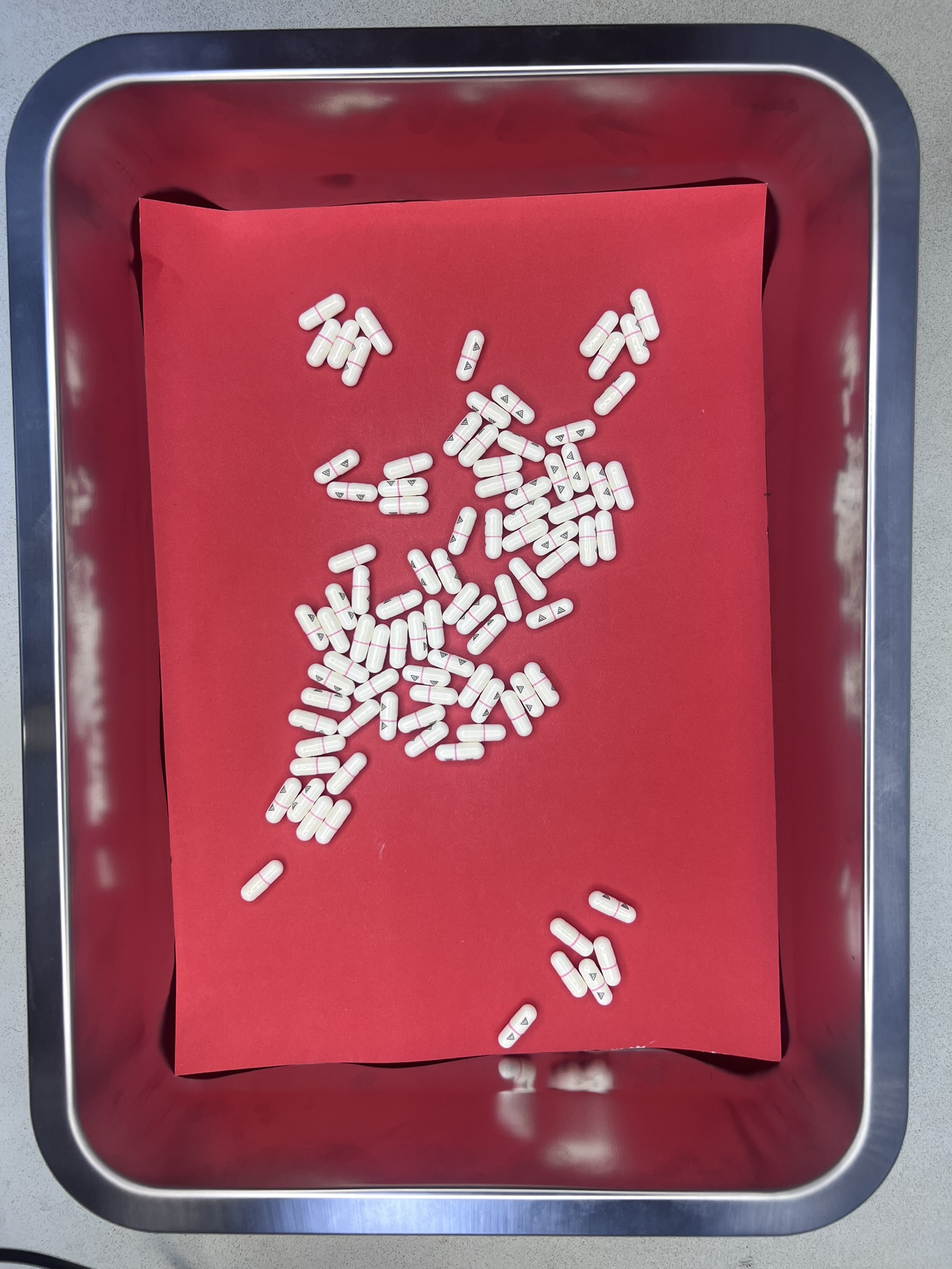Capsule: (594, 371, 637, 418), (306, 662, 358, 700), (580, 309, 621, 357), (456, 423, 500, 467), (442, 410, 482, 458), (531, 519, 581, 557), (589, 331, 627, 381), (498, 1002, 538, 1049), (356, 307, 394, 356), (296, 795, 334, 844), (323, 648, 373, 685), (240, 859, 283, 902), (325, 751, 367, 795), (441, 582, 481, 628), (491, 384, 535, 425), (286, 777, 325, 823), (465, 390, 512, 428), (298, 293, 345, 331), (511, 671, 548, 719), (523, 661, 560, 709), (294, 604, 330, 653), (550, 917, 593, 958), (535, 539, 580, 578), (508, 557, 546, 603), (265, 777, 302, 824), (326, 321, 360, 372), (504, 475, 552, 511), (503, 517, 551, 553), (552, 950, 588, 998), (455, 594, 497, 635), (579, 957, 614, 1006), (307, 319, 342, 367), (629, 287, 660, 341), (323, 582, 357, 631), (457, 664, 494, 709), (315, 799, 352, 844), (314, 447, 360, 483), (544, 451, 575, 504), (467, 613, 506, 655), (526, 597, 574, 631), (558, 442, 590, 493), (604, 459, 635, 511), (316, 607, 349, 655), (328, 542, 377, 574), (504, 498, 550, 532), (407, 551, 442, 595), (405, 722, 449, 757), (474, 469, 525, 499), (619, 314, 649, 365), (498, 430, 544, 463), (589, 890, 635, 923), (341, 698, 382, 735), (547, 495, 594, 527), (585, 461, 615, 511), (343, 336, 373, 386), (500, 688, 531, 736), (473, 678, 506, 722), (431, 549, 463, 594), (382, 452, 433, 480), (494, 574, 523, 623), (455, 330, 484, 379), (376, 590, 423, 620), (449, 507, 477, 557), (358, 667, 399, 701), (294, 732, 347, 758), (594, 936, 621, 987), (426, 650, 475, 678), (472, 453, 524, 479), (289, 709, 339, 736), (545, 420, 595, 447), (398, 704, 444, 733), (350, 614, 375, 667), (402, 663, 452, 688), (367, 622, 391, 672), (301, 687, 346, 713), (423, 601, 445, 652), (578, 515, 599, 568), (378, 689, 399, 741), (595, 507, 616, 559), (327, 482, 376, 504), (290, 755, 339, 777), (350, 564, 371, 615), (409, 684, 457, 706), (484, 509, 504, 560), (379, 496, 430, 516), (379, 478, 426, 499), (408, 610, 428, 659), (389, 619, 408, 668), (436, 743, 485, 762), (458, 724, 505, 743)
